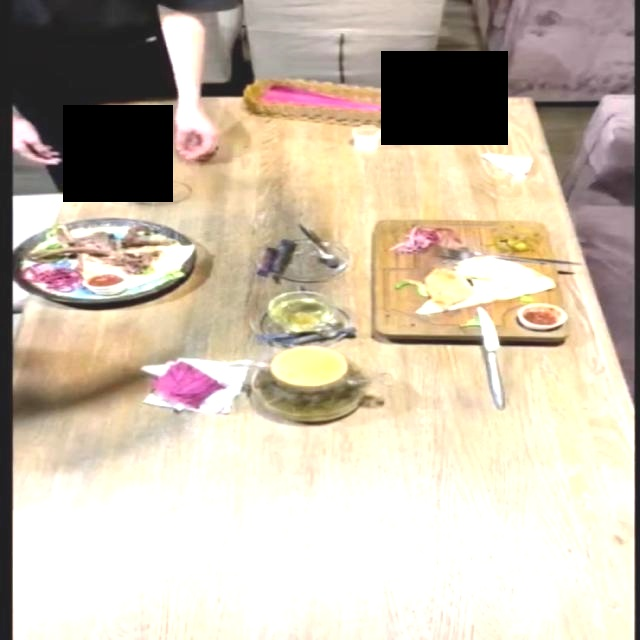meat: (0, 220, 223, 330), (370, 222, 570, 343)
tea: (244, 345, 364, 434)
